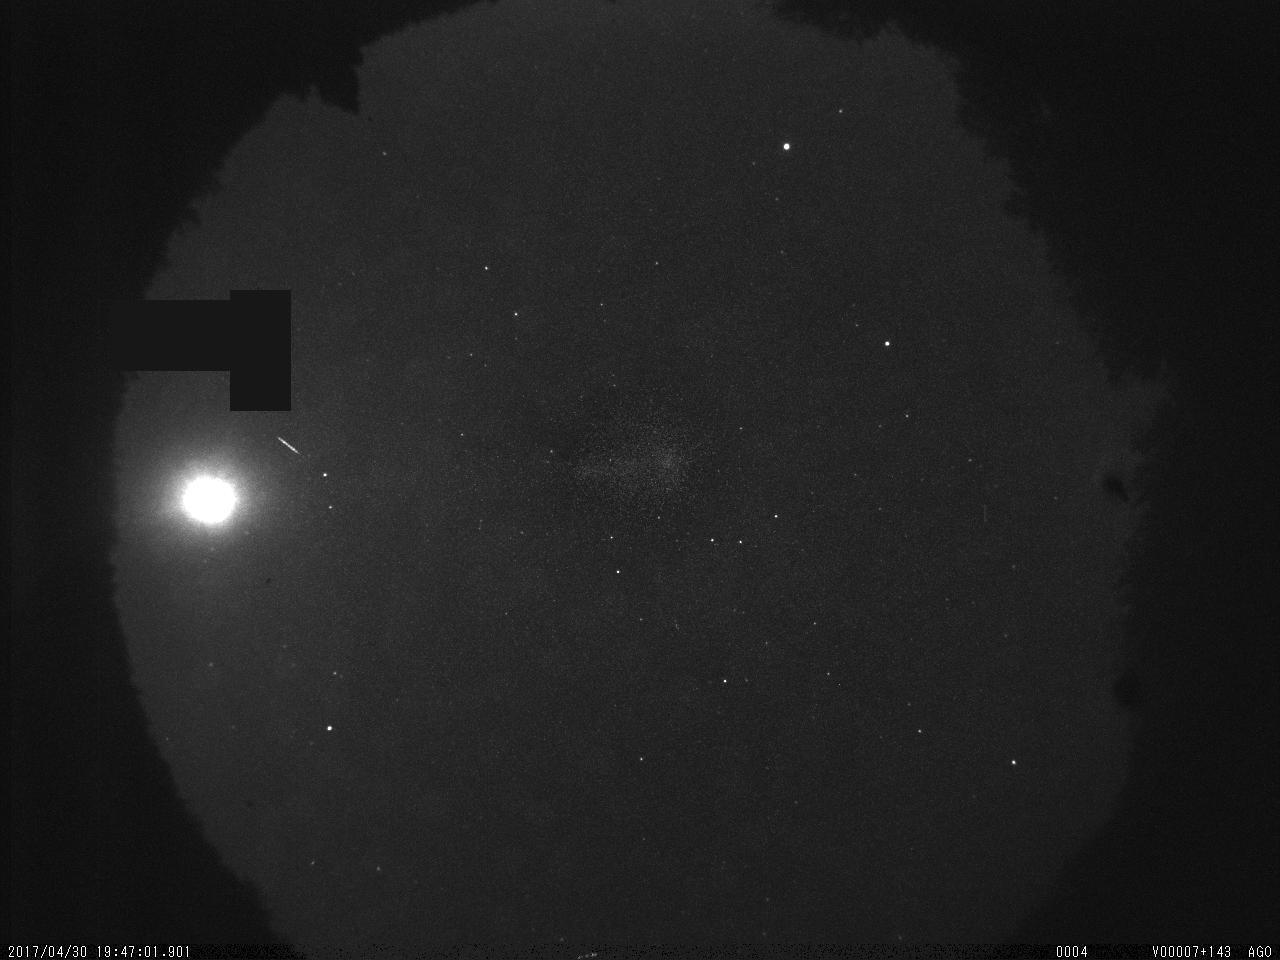meteor: (264, 423, 324, 467)
